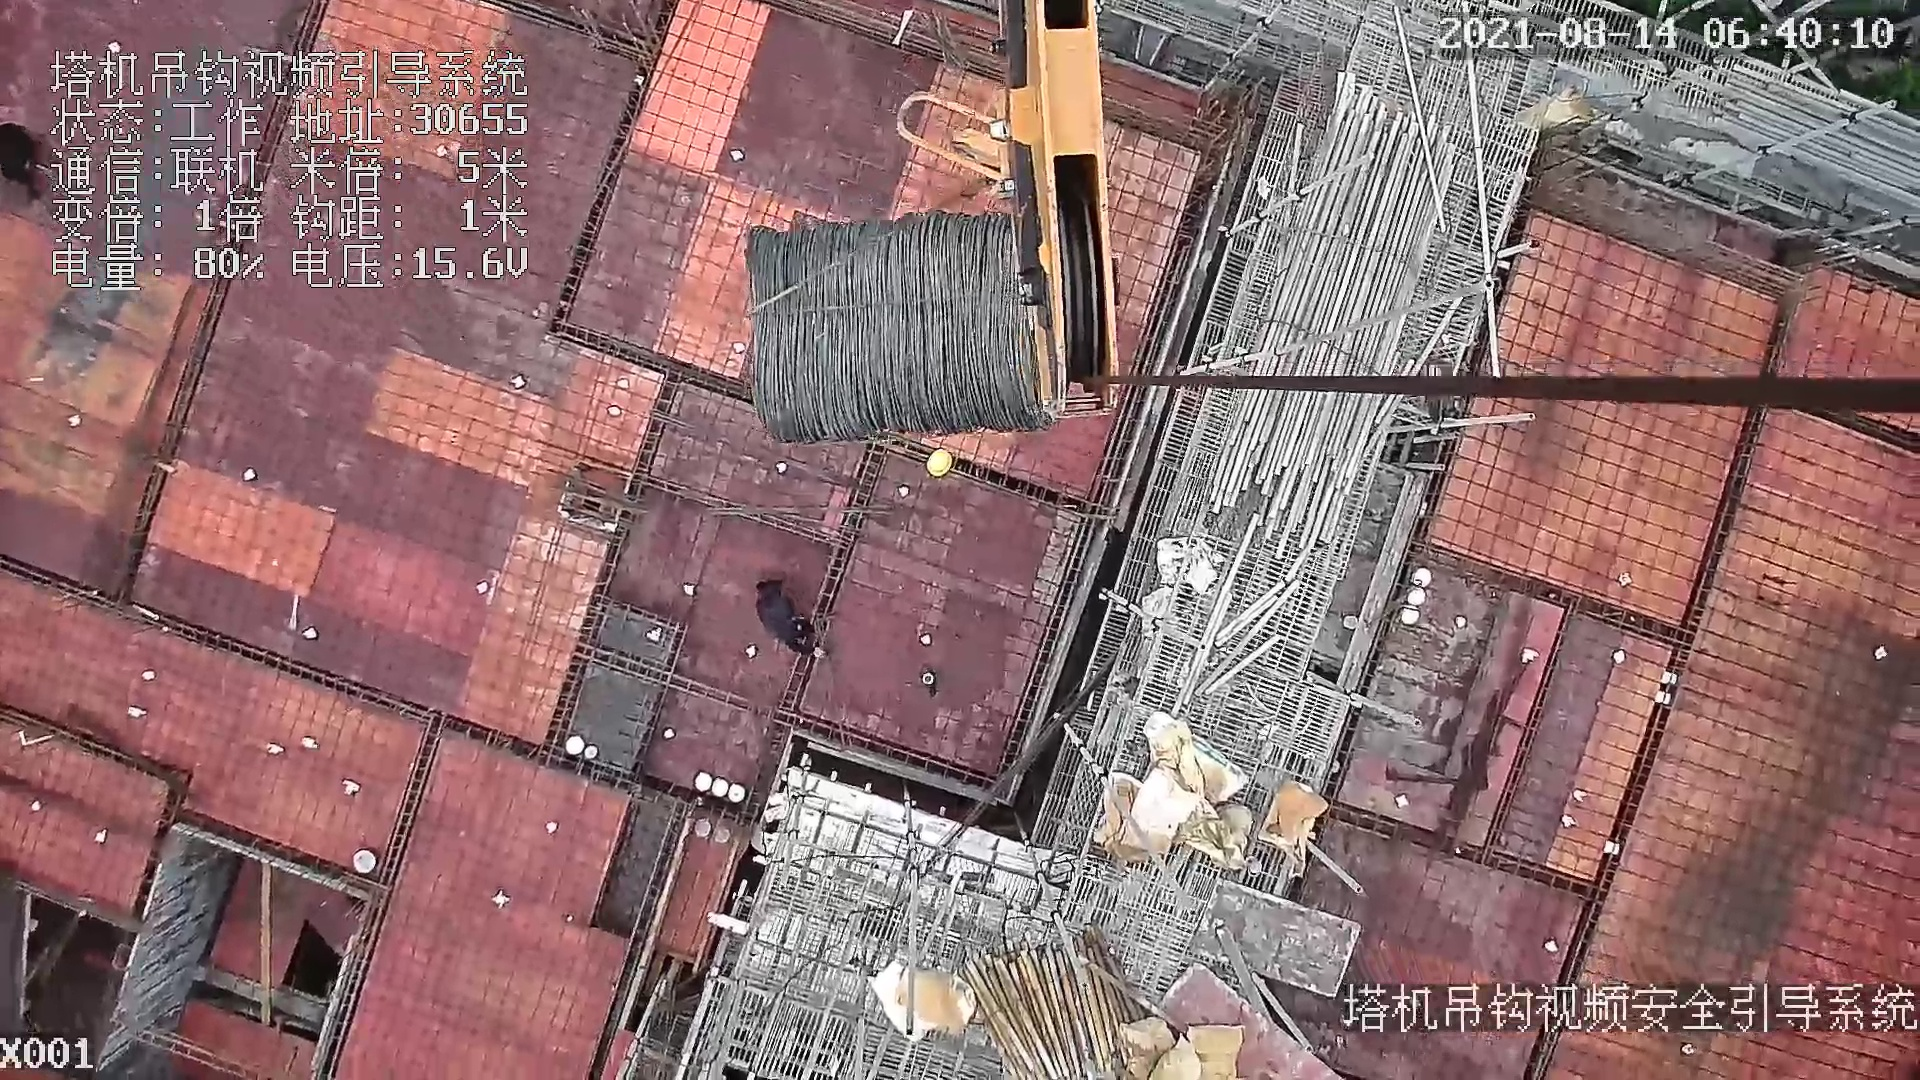helmet: (926, 449, 949, 476)
hook: (892, 1, 1124, 423)
person: (746, 569, 826, 660), (1, 120, 49, 204)
